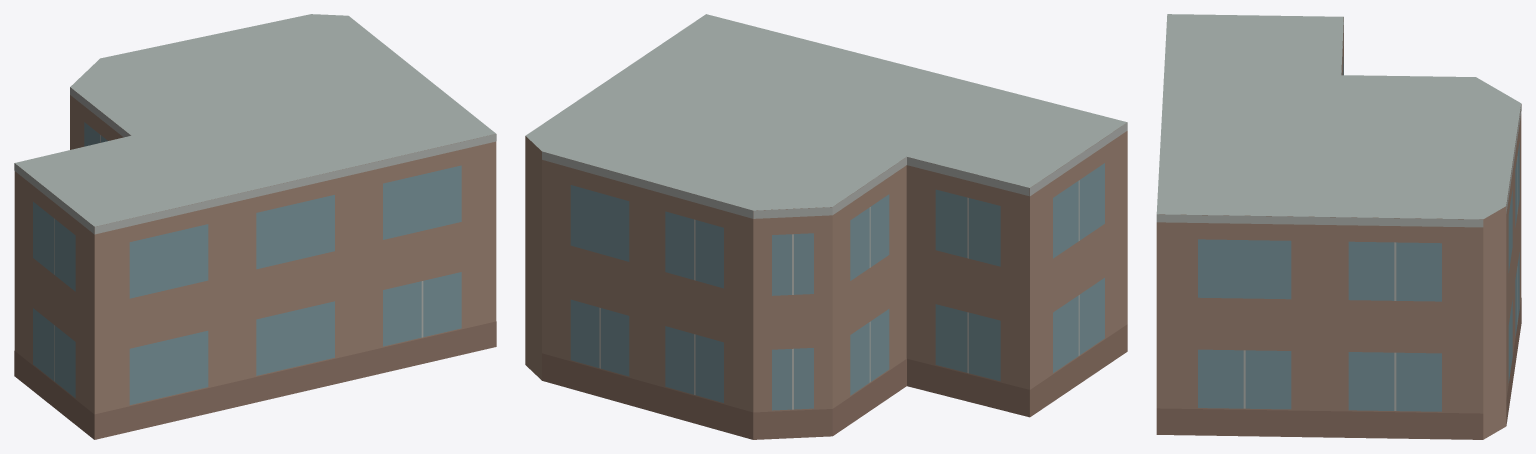
The model's file is survey-upis-33020577.glb.
The picture shows the model from 3 angles, left to right: view 1: azimuth 30°, elevation 25°; view 2: azimuth 150°, elevation 25°; view 3: azimuth 270°, elevation 25°; orthographic projection. The views are drawn at different scales.
Parts seen in each view (by area): view 1: survey-upis-33020577.tmp; view 2: survey-upis-33020577.tmp; view 3: survey-upis-33020577.tmp.
Part boxes in pixels (bbox=[...]): survey-upis-33020577.tmp: bbox=[14, 14, 496, 439]; survey-upis-33020577.tmp: bbox=[525, 14, 1127, 439]; survey-upis-33020577.tmp: bbox=[1156, 14, 1521, 439].
Bounding box in the file's own units: 13.4 × 6.7 × 10.06.
